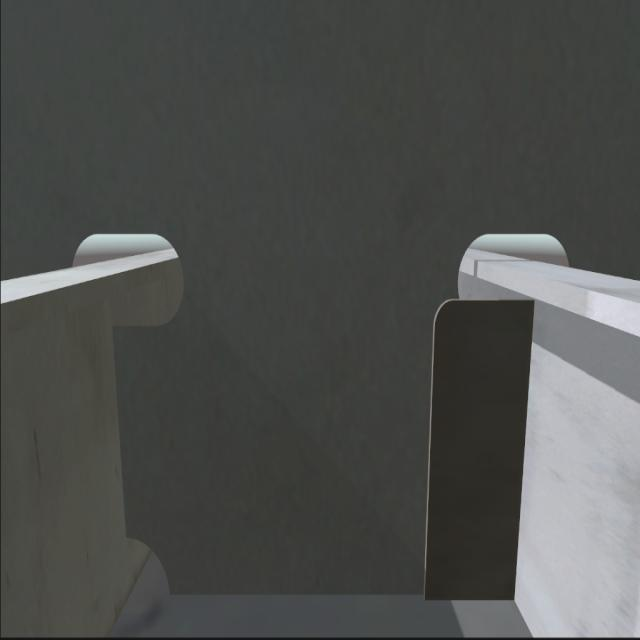fillet_hole: (127, 536, 173, 595)
fillet_yong_jeop_jang: (157, 585, 518, 602)
longi_yong_jeop_jang: (511, 291, 543, 600), (102, 322, 142, 546)
plate_CP05: (427, 297, 517, 599)
